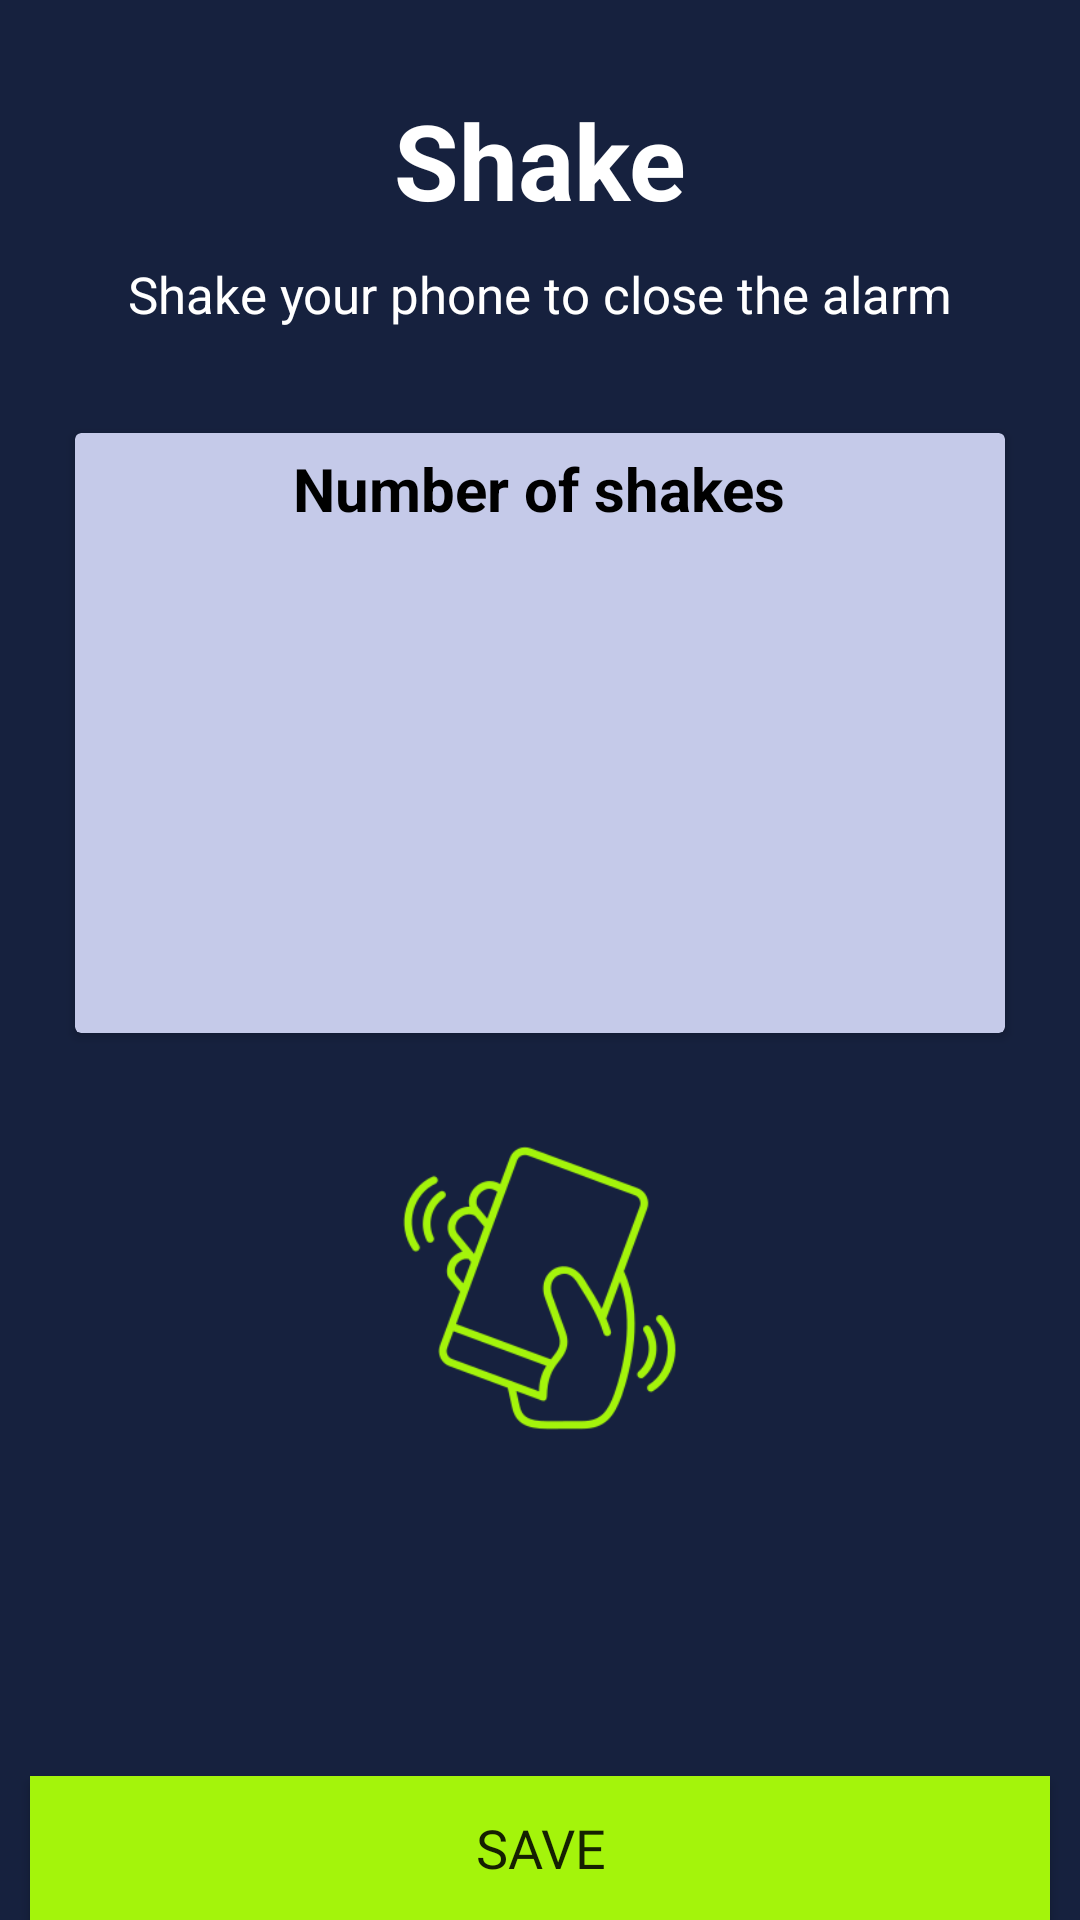

Locate icon controls on the screen. Image size 1080 x 1920, boxes as (x1, y1, x2, y2).
shake: (403, 1147, 676, 1430)
